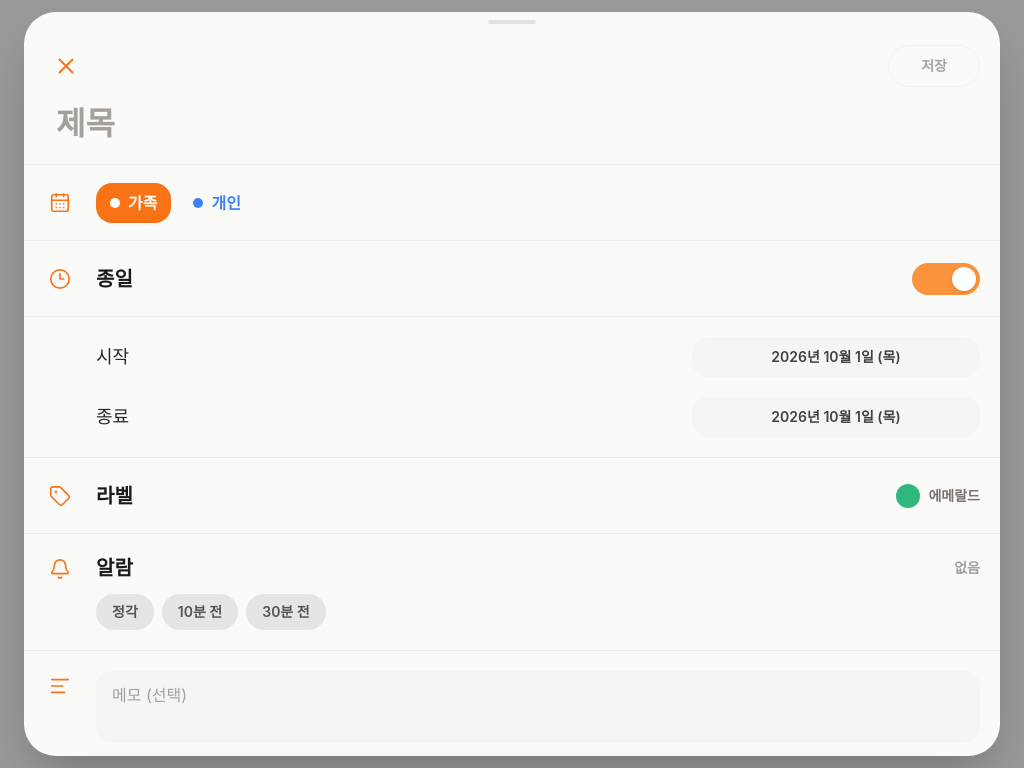
Test: 라벨 색상 › 색상을 직접 고르기 전에는 캘린더 변경에 맞춰 기본 색상이 바뀐다
This screenshot has width=1024, height=768.
Click the button "개인" at x=217, y=202, box x1=180 y1=182 x2=255 y2=222
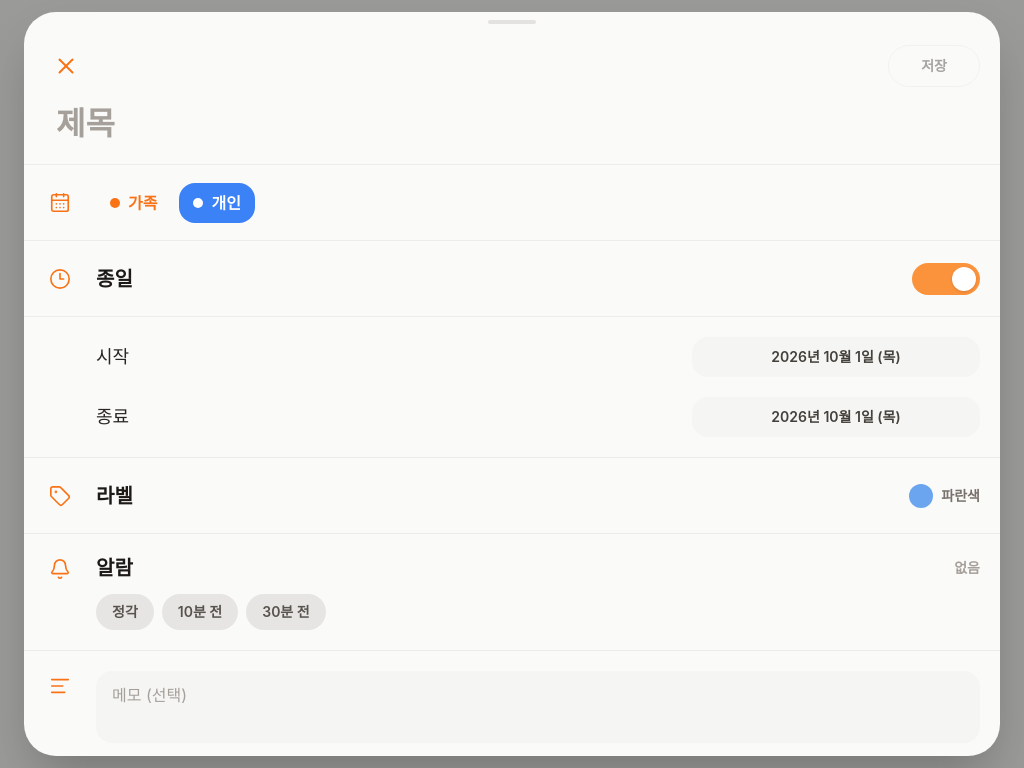
Now the text "파란색" is shown, box x1=941 y1=486 x2=980 y2=506
